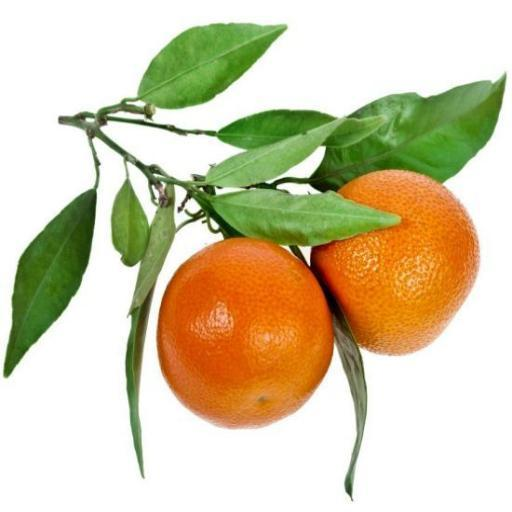orange: (158, 238, 333, 427), (312, 170, 479, 354)
